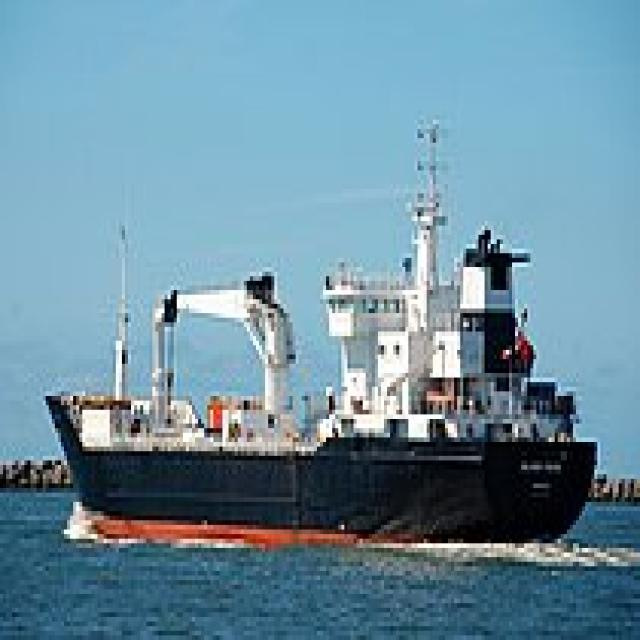Cargo: (36, 189, 598, 548)
